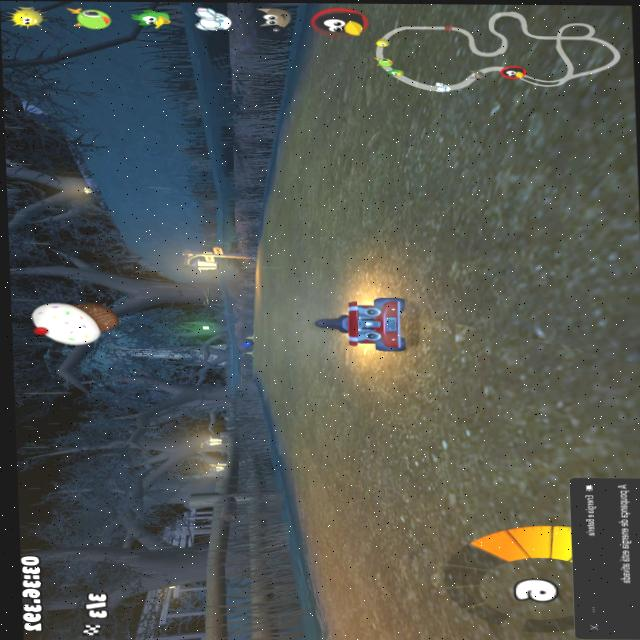nitro: (242, 341, 254, 347)
obstacle: (242, 331, 252, 339), (243, 350, 256, 354)
player_kart: (318, 290, 424, 358)
